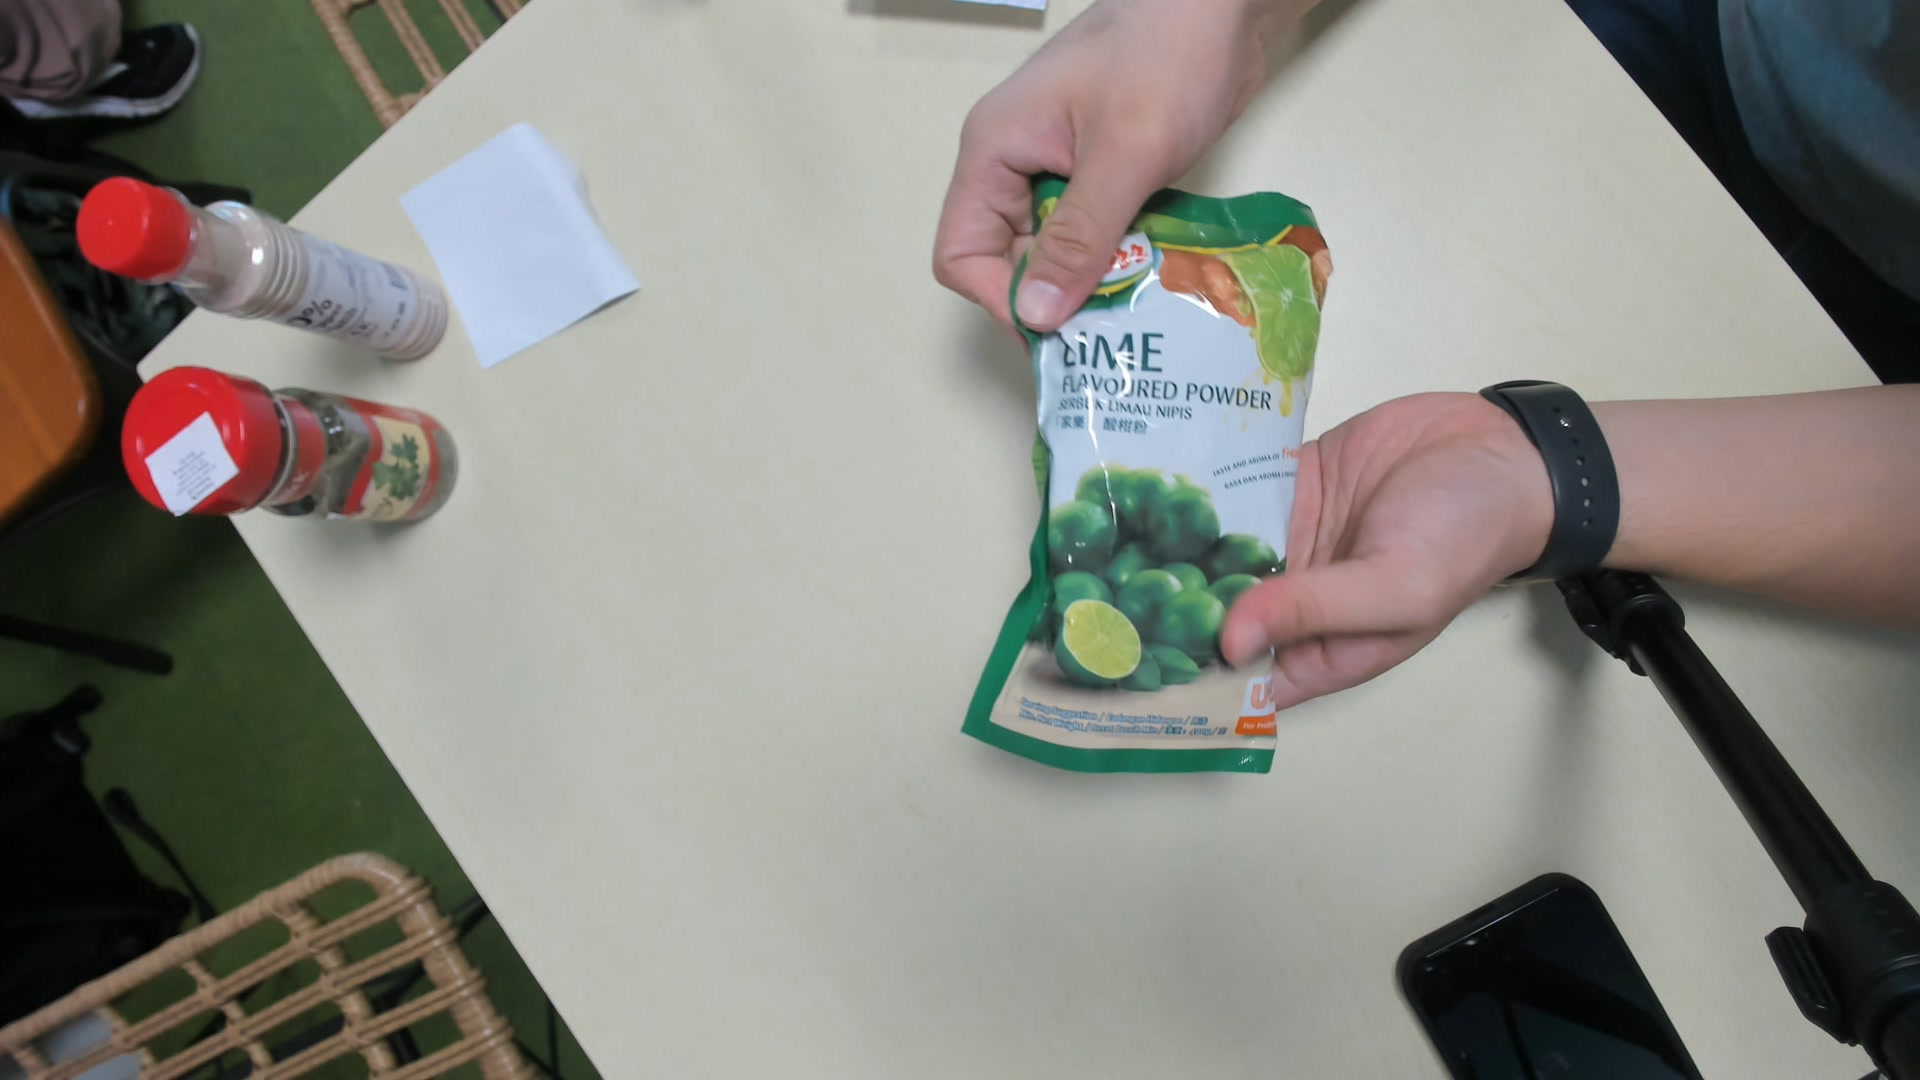HerbsSpicesPepper_400-499g_Halal_NonHealthy: (1005, 185, 1317, 775)
